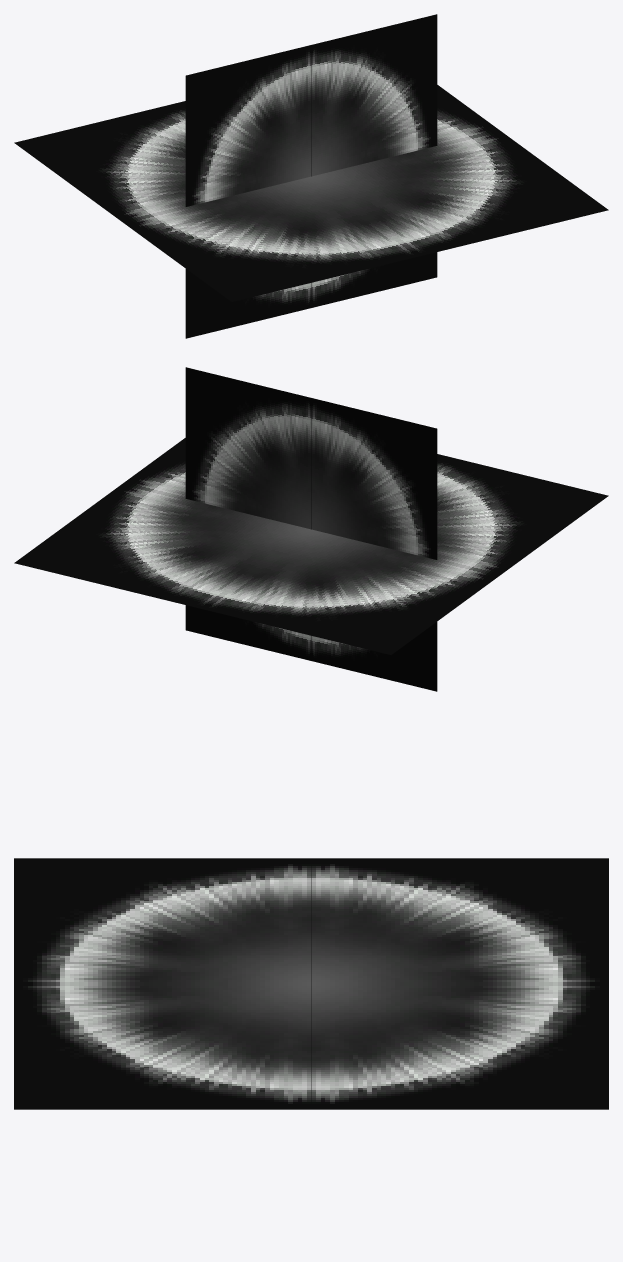
File: effect_xiahoudun_bb_1_1.FBX
The picture shows the model from 3 angles, top to bottom: view 1: azimuth 30°, elevation 25°; view 2: azimuth 150°, elevation 25°; view 3: azimuth 270°, elevation 25°; orthographic projection. The views are drawn at different scales.
Visible parts, largest first — view 1: effect_xiahoudun_bb_1_2; view 2: effect_xiahoudun_bb_1_2; view 3: effect_xiahoudun_bb_1_2.
Boxes of the visible parts, left/top/right/bottom form: effect_xiahoudun_bb_1_2: left=14, top=14, right=608, bottom=338; effect_xiahoudun_bb_1_2: left=14, top=367, right=608, bottom=691; effect_xiahoudun_bb_1_2: left=14, top=858, right=608, bottom=1109.
Bounding box in the file's own units: 300 × 200 × 300.
Materials: 1 (1 with a texture image).
